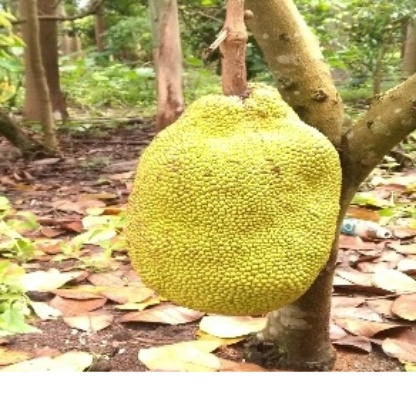mit: (121, 90, 351, 327)
